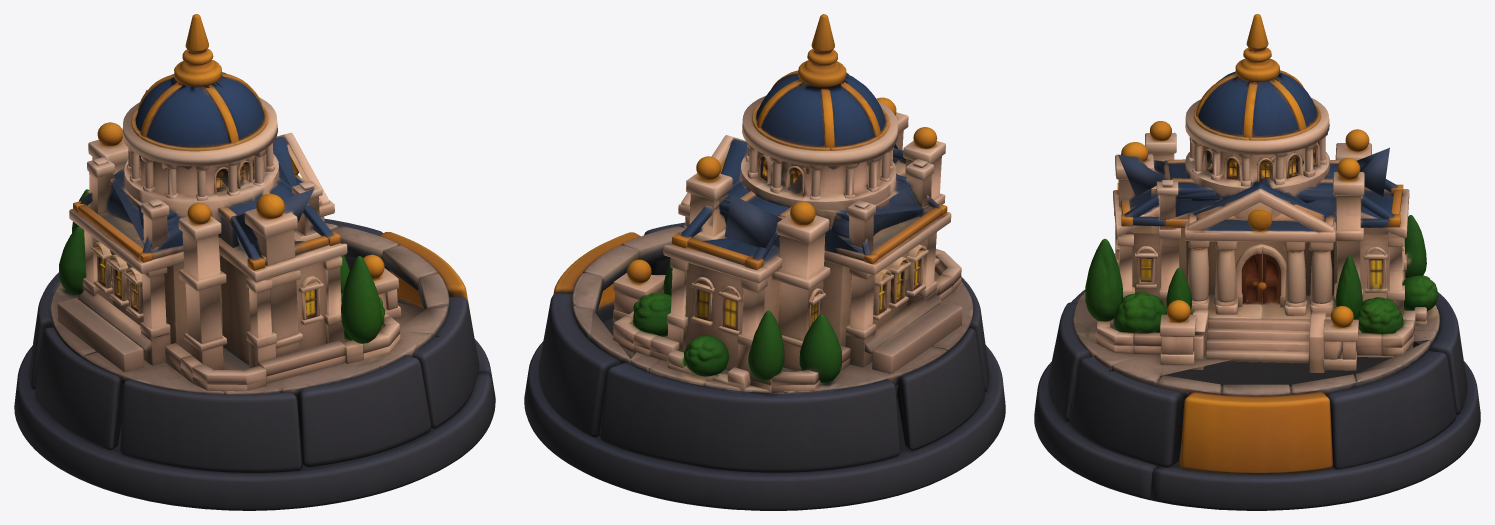
Rendered from city-hall.glb.
3 renders of one model, left to right at view 1: azimuth 30°, elevation 25°; view 2: azimuth 150°, elevation 25°; view 3: azimuth 270°, elevation 25°, orthographic. The views are drawn at different scales.
Parts seen in each view (by area): view 1: tripo_node_728a2b5f-ebe2-4812-8550-c4e89574a401; view 2: tripo_node_728a2b5f-ebe2-4812-8550-c4e89574a401; view 3: tripo_node_728a2b5f-ebe2-4812-8550-c4e89574a401.
Part boxes in pixels (x1=…): tripo_node_728a2b5f-ebe2-4812-8550-c4e89574a401: x1=14, y1=14, x2=495, y2=510; tripo_node_728a2b5f-ebe2-4812-8550-c4e89574a401: x1=524, y1=14, x2=1005, y2=510; tripo_node_728a2b5f-ebe2-4812-8550-c4e89574a401: x1=1034, y1=14, x2=1480, y2=510.
Size of the model in its own units: 0.9995 by 0.9468 by 0.9995.
Materials: 1 (1 with a texture image).
